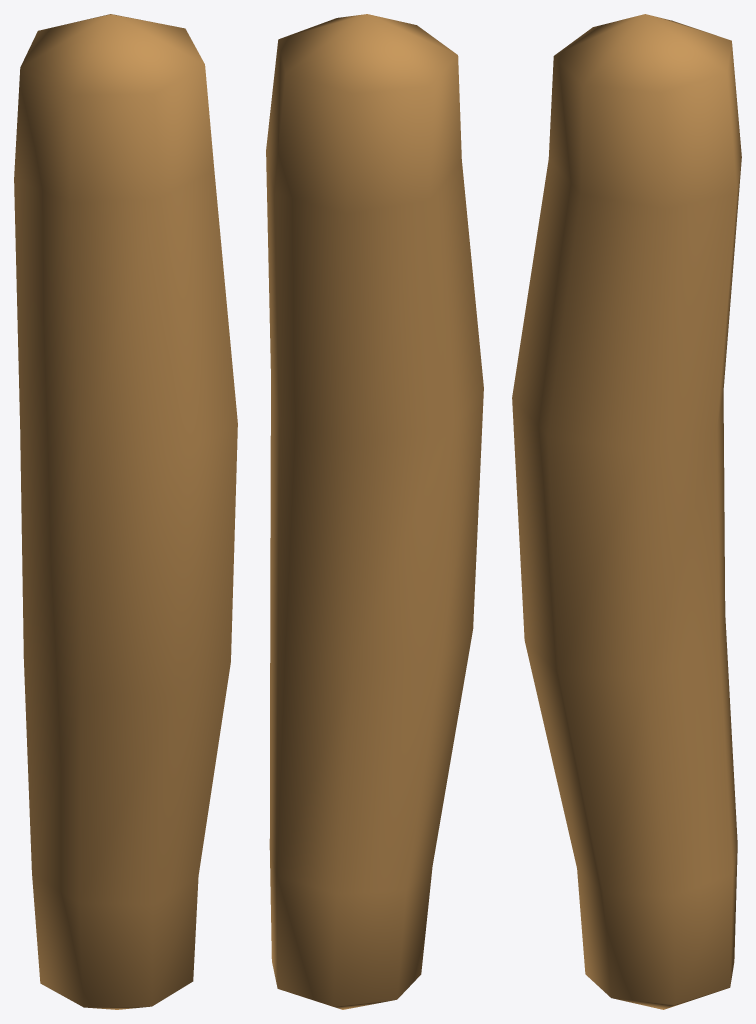
The model's file is tarsus3_T1_left_leg.obj.
3 renders of one model, left to right at view 1: azimuth 30°, elevation 25°; view 2: azimuth 150°, elevation 25°; view 3: azimuth 270°, elevation 25°, orthographic.
Size of the model in its own units: 0.00256 by 0.0131 by 0.00276.
